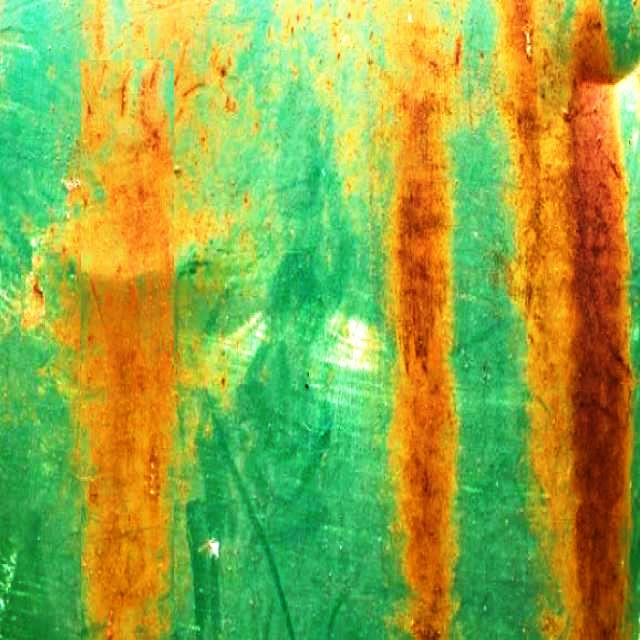Corrosion: (503, 0, 634, 640), (70, 59, 176, 640), (393, 19, 458, 640), (570, 16, 634, 640)
